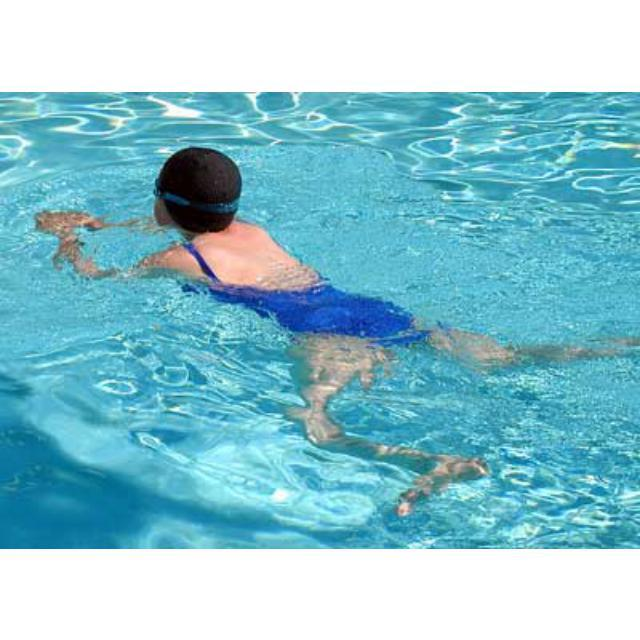human: (35, 143, 487, 491)
